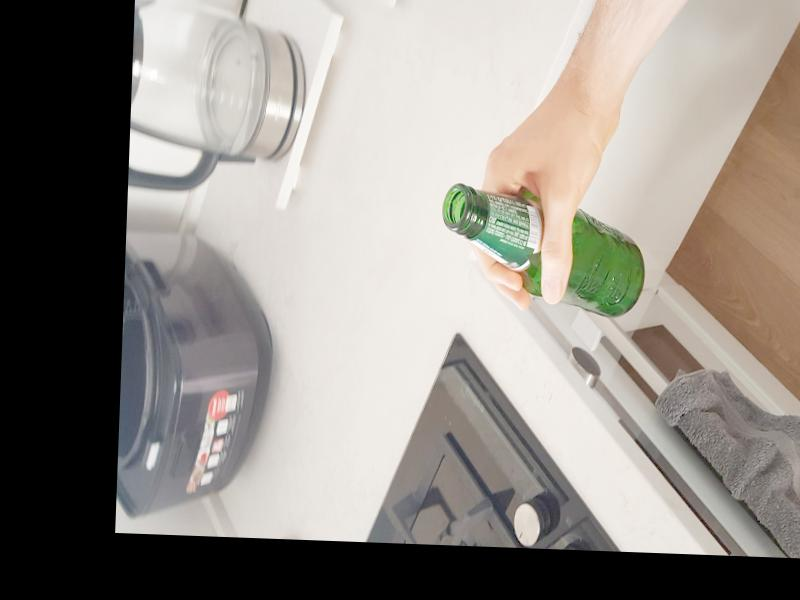Beer: (439, 182, 649, 319)
